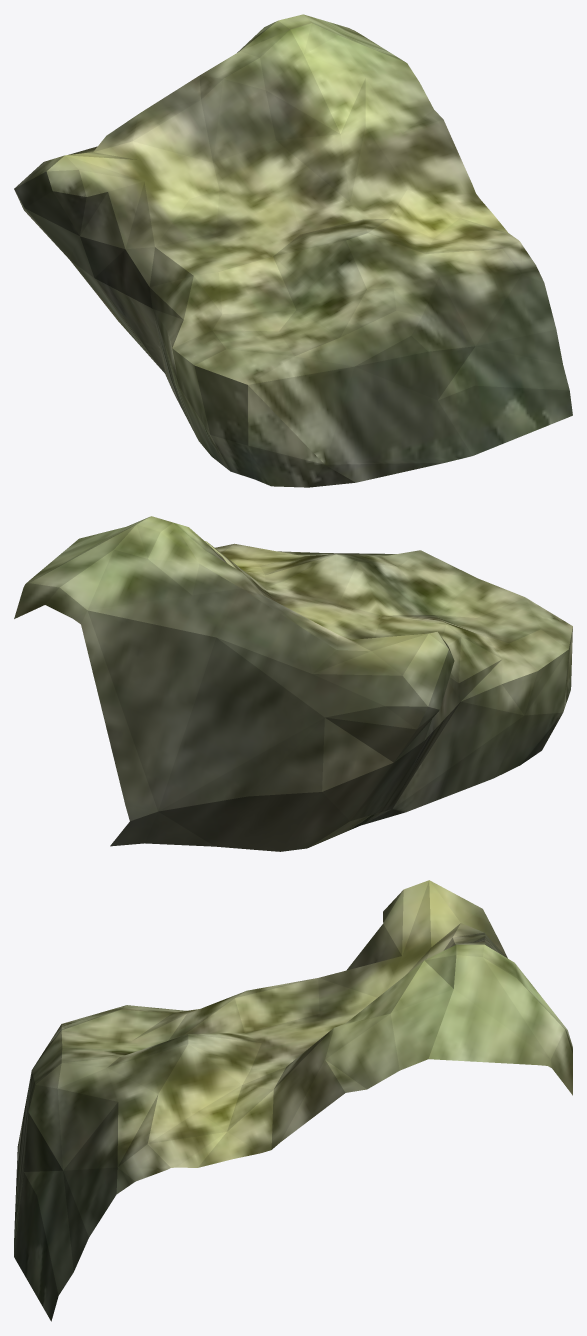
3 renders of one model, top to bottom at view 1: azimuth 30°, elevation 25°; view 2: azimuth 150°, elevation 25°; view 3: azimuth 270°, elevation 25°, orthographic. The views are drawn at different scales.
Size of the model in its own units: 1.3 by 0.9537 by 1.51.
1 material, 1 textured.
